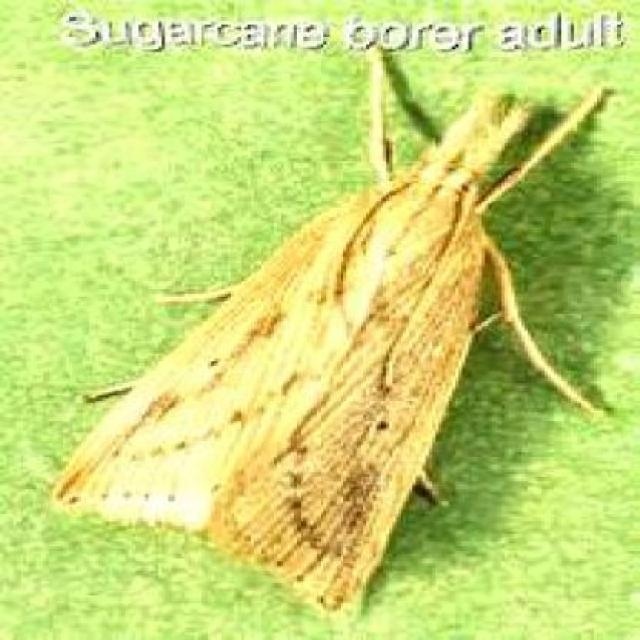stem-borer: (43, 72, 609, 622)
